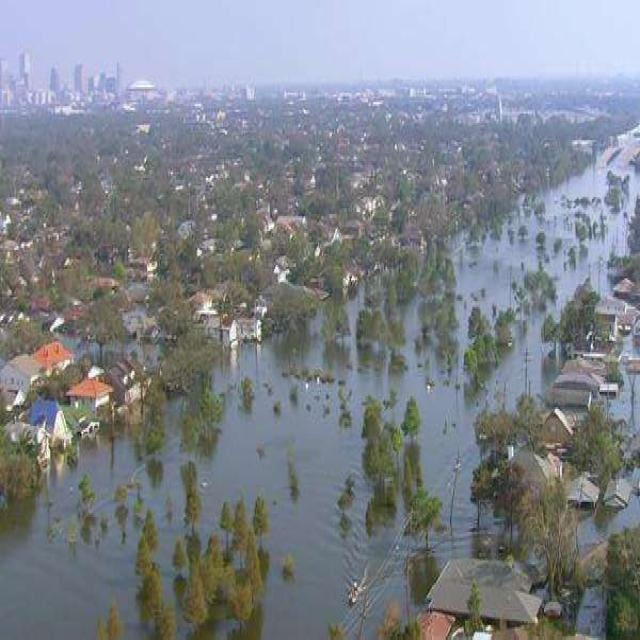flooded_areas: (3, 118, 626, 638)
